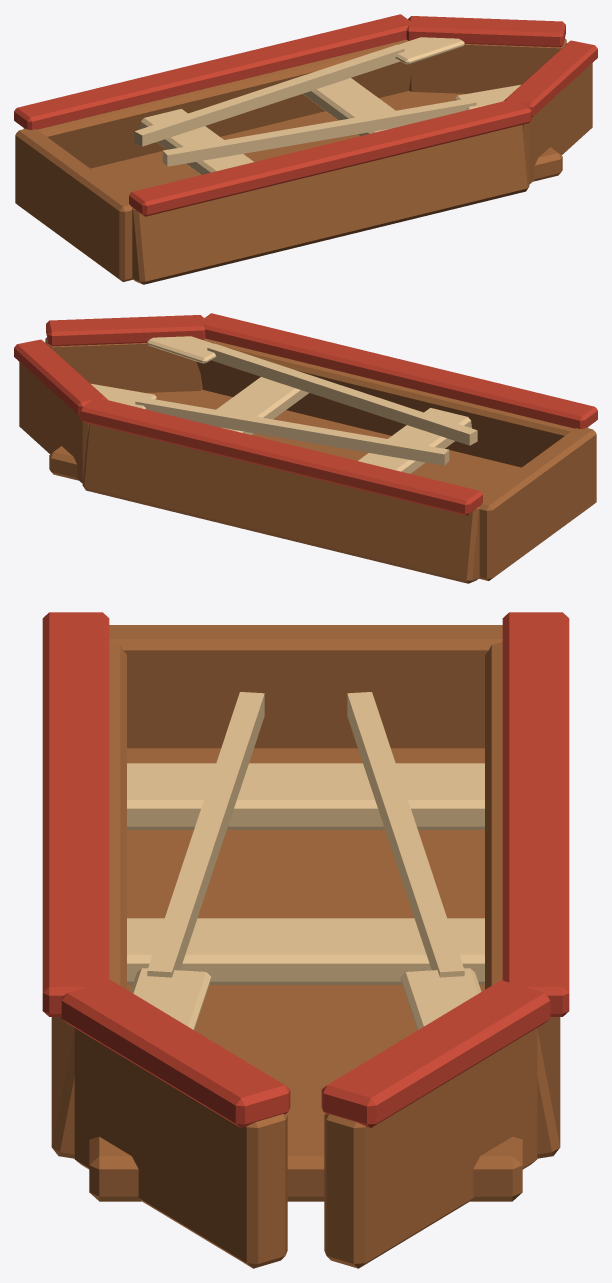
File: Rowboat.fbx
3 views of the same model, one above another, from view 1: azimuth 30°, elevation 25°; view 2: azimuth 150°, elevation 25°; view 3: azimuth 270°, elevation 25° (orthographic). The views are drawn at different scales.
Visible parts, largest first — view 1: Hull, Trim, Oar, Seat; view 2: Hull, Trim, Oar, Seat; view 3: Hull, Trim, Seat, Oar.
Boxes of the visible parts, x1=… form: Hull: x1=15, y1=38, x2=592, y2=284; Trim: x1=14, y1=14, x2=597, y2=216; Oar: x1=134, y1=37, x2=520, y2=166; Seat: x1=140, y1=78, x2=395, y2=174; Hull: x1=19, y1=337, x2=596, y2=583; Trim: x1=14, y1=313, x2=597, y2=515; Oar: x1=91, y1=336, x2=477, y2=465; Seat: x1=216, y1=377, x2=471, y2=473; Hull: x1=51, y1=625, x2=560, y2=1268; Trim: x1=42, y1=612, x2=569, y2=1127; Seat: x1=127, y1=763, x2=484, y2=984; Oar: x1=130, y1=692, x2=481, y2=1029.
Bounding box in the file's own units: 7.12 × 1.16 × 3.16.
